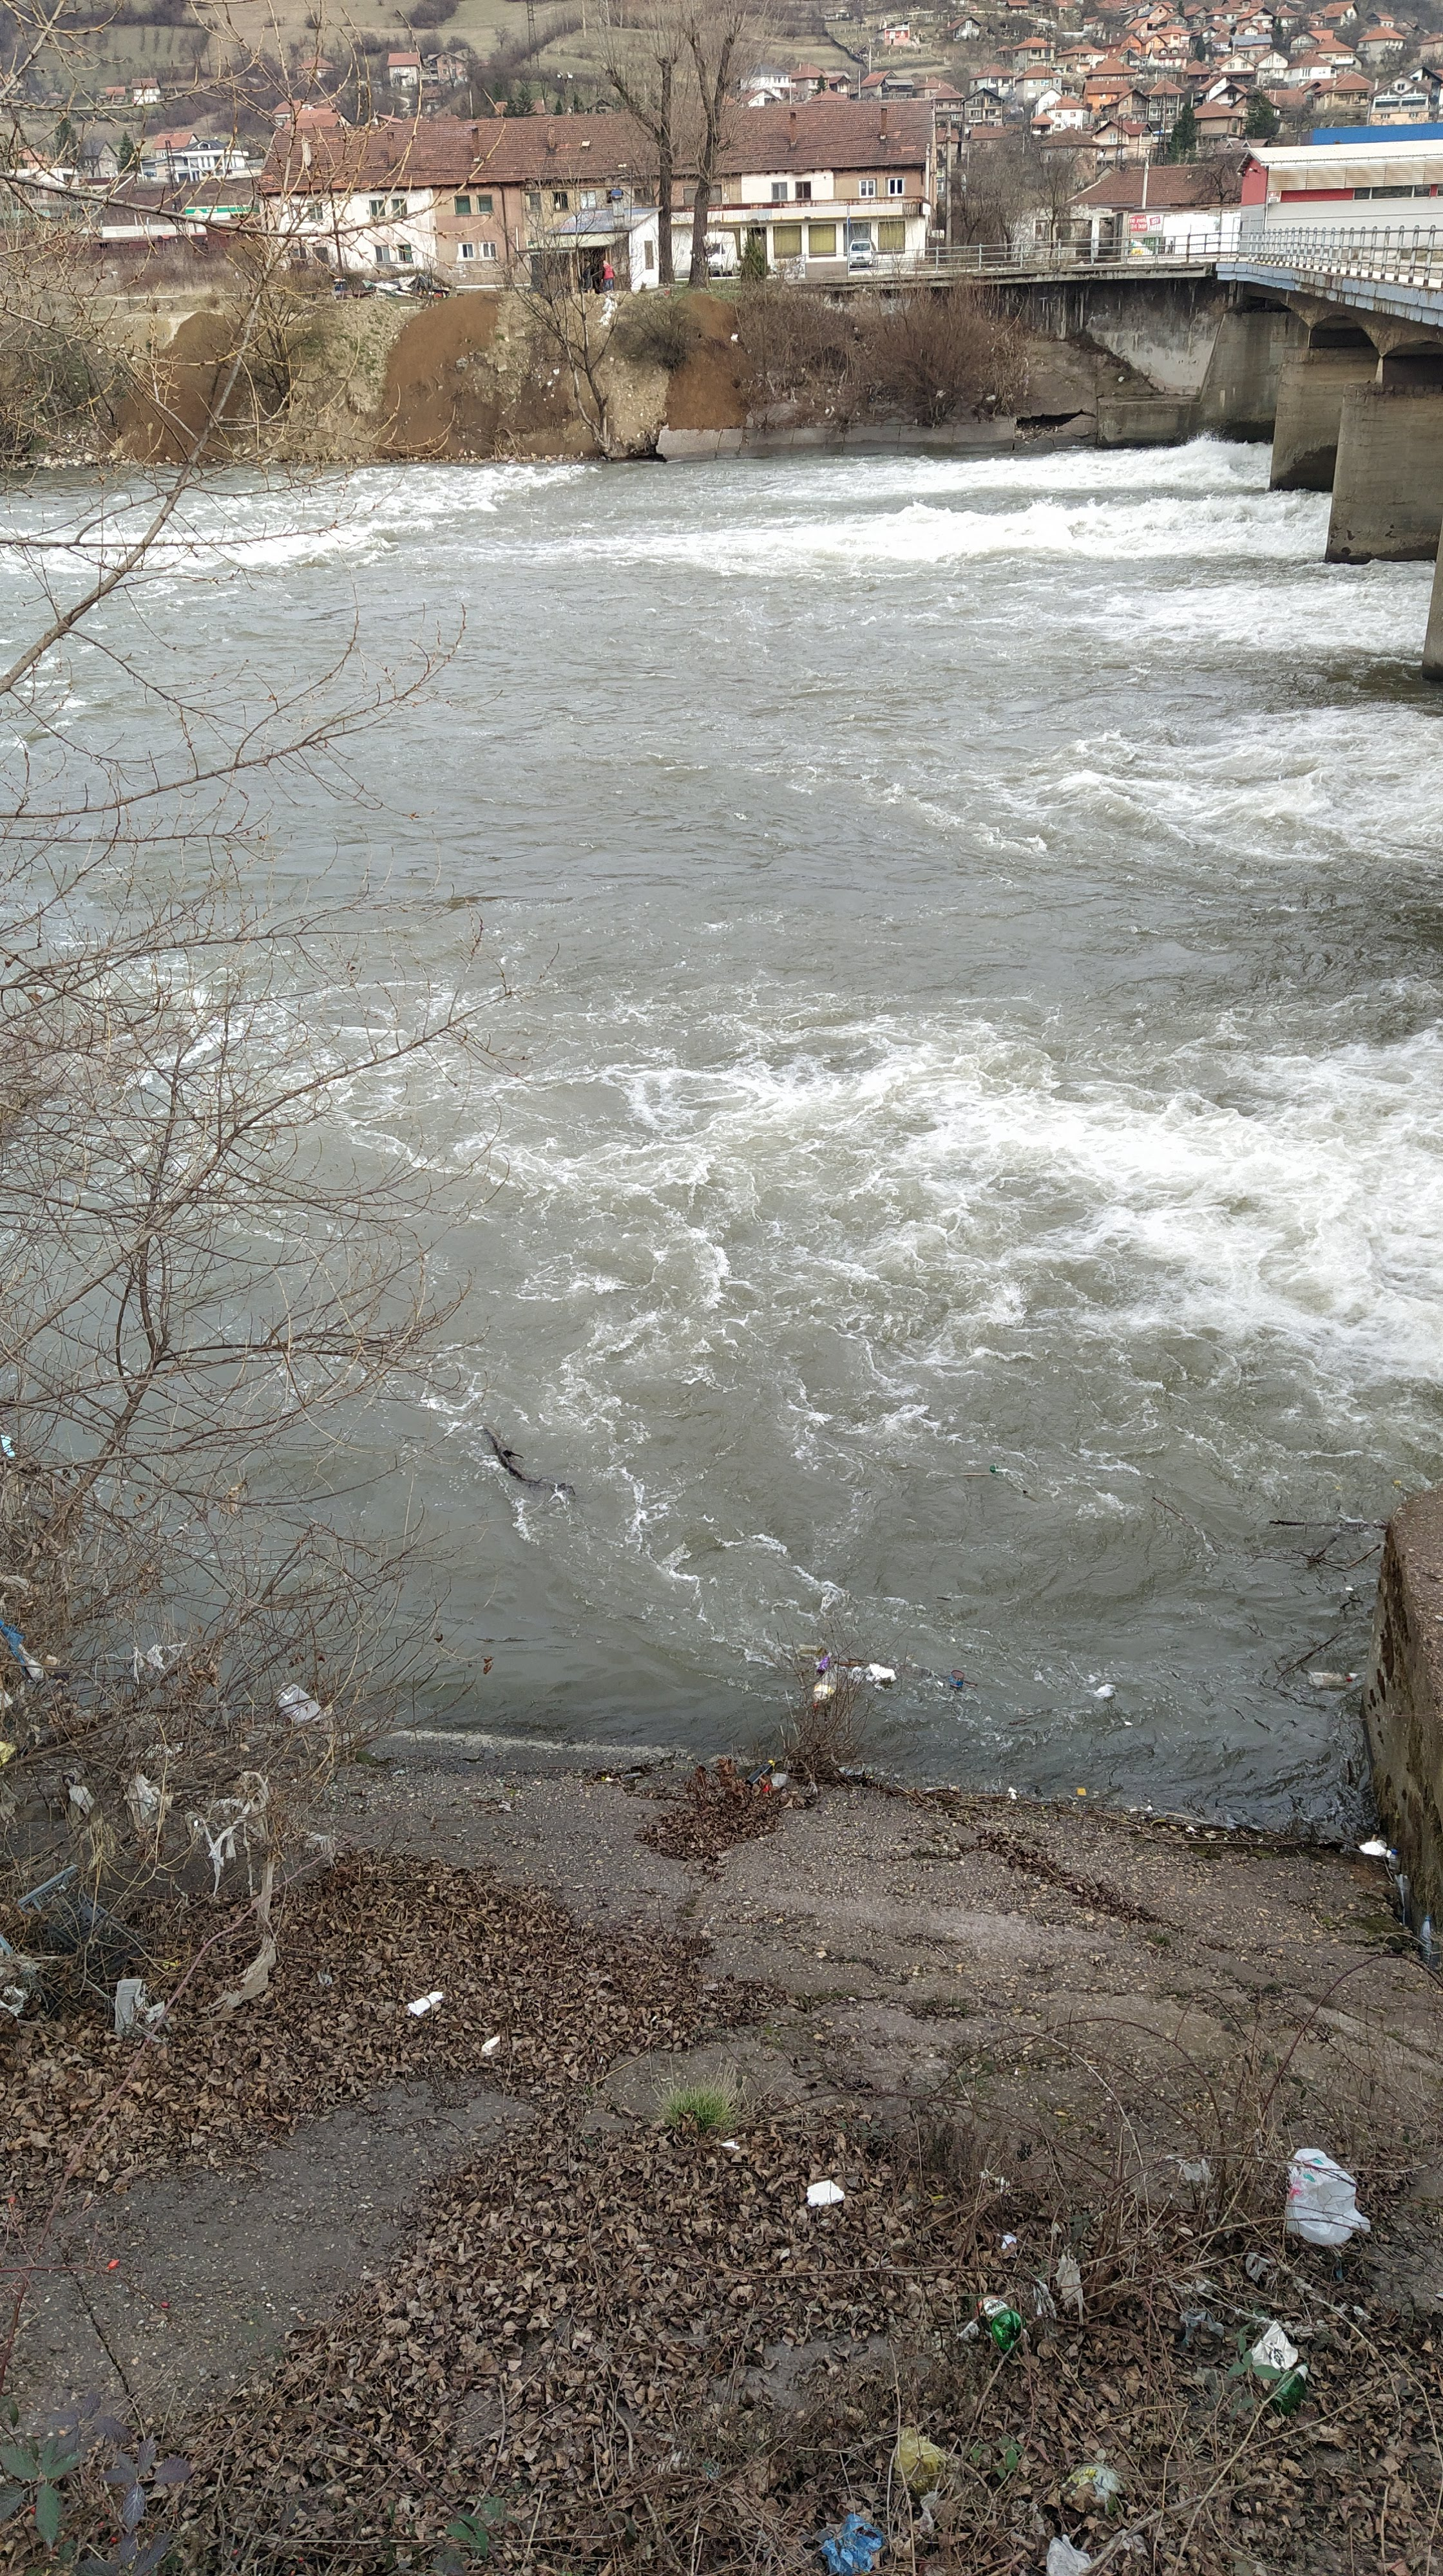Plastic Bottle: (811, 1670, 836, 1707), (1307, 1670, 1353, 1686), (799, 1644, 818, 1654), (818, 1654, 829, 1672), (990, 1463, 999, 1472)
